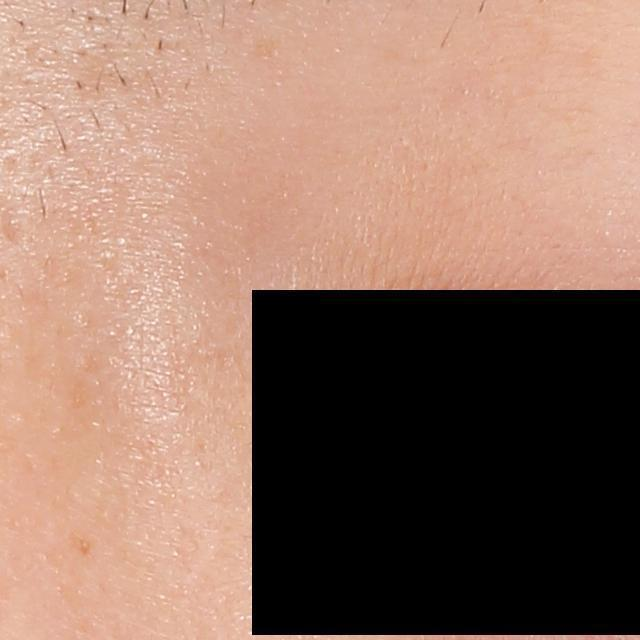melasma: (67, 533, 98, 560)
